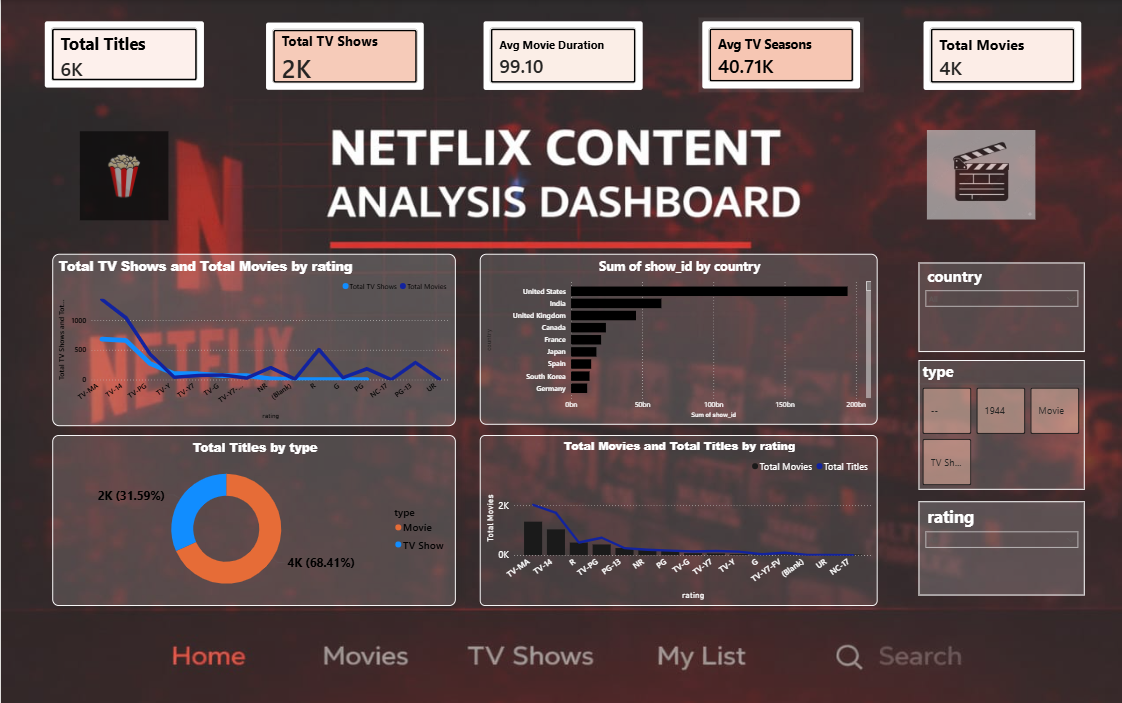

Layout of this report page (visuals, bound fields, positions):
{"tool":"powerbi","page":{"name":"Page 1","canvas":[1900,1190],"ordinal":0},"visuals":[{"type":"cardVisual","fields":{"Data":["netflix_titles.Total Movies"]},"box":[1552.1,28.5,279.1,128.3],"z":0},{"type":"cardVisual","fields":{"Data":["netflix_titles.Total Titles"]},"box":[67.2,30.6,281.1,124.2],"z":1000},{"type":"cardVisual","fields":{"Data":["netflix_titles.Total TV Shows"]},"box":[442,32.6,279.1,126.3],"z":2000},{"type":"cardVisual","fields":{"Data":["netflix_titles.Avg Movie Duration"]},"box":[808.6,30.6,281.1,128.3],"z":3000},{"type":"cardVisual","fields":{"Data":["netflix_titles.Avg TV Seasons"]},"box":[1177.3,30.6,279.1,126.3],"z":4000},{"type":"donutChart","fields":{"Category":["netflix_titles.type"],"Y":["netflix_titles.Total Titles"]},"box":[85.7,733.8,681.9,289.1],"z":5000},{"type":"lineChart","fields":{"Category":["netflix_titles.rating"],"Y":["netflix_titles.Total TV Shows","netflix_titles.Total Movies"]},"box":[85.7,428.7,681.9,291.1],"z":6000},{"type":"clusteredBarChart","fields":{"Category":["netflix_titles_countries.country"],"Y":["Sum(netflix_titles_countries.show_id)"]},"box":[809.6,428.7,672,289.1],"z":7000},{"type":"lineStackedColumnComboChart","fields":{"Category":["netflix_titles.rating"],"Y":["netflix_titles.Total Movies"],"Y2":["netflix_titles.Total Titles"]},"box":[809.6,733.8,672,289.1],"z":8000},{"type":"slicer","fields":{"Values":["netflix_titles_countries.country"]},"box":[1549.3,442.7,281.2,151.5],"z":9000},{"type":"slicer","fields":{"Values":["netflix_titles.rating"]},"box":[1549.3,847.4,281.2,159.5],"z":10000},{"type":"advancedSlicerVisual","fields":{"Values":["netflix_titles.type"]},"box":[1549.3,608.2,281.2,219.3],"z":11000},{"type":"image","box":[67,222,281,150],"z":12000},{"type":"image","box":[1515.4,219.3,279.2,151.5],"z":13000}]}

Visuals, with their boxes in screenshot pixels (x1, y1, x2, y2), scaled from the page's 1900x1190 canvas onto the 1122x703 screenshot:
cardVisual - netflix_titles.Total Movies: 917,17,1081,93
cardVisual - netflix_titles.Total Titles: 40,18,206,91
cardVisual - netflix_titles.Total TV Shows: 261,19,426,94
cardVisual - netflix_titles.Avg Movie Duration: 477,18,643,94
cardVisual - netflix_titles.Avg TV Seasons: 695,18,860,93
donutChart - netflix_titles.type x netflix_titles.Total Titles: 51,433,453,604
lineChart - netflix_titles.rating x netflix_titles.Total TV Shows: 51,253,453,425
clusteredBarChart - netflix_titles_countries.country x Sum(netflix_titles_countries.show_id): 478,253,875,424
lineStackedColumnComboChart - netflix_titles.rating x netflix_titles.Total Movies: 478,433,875,604
slicer - netflix_titles_countries.country: 915,262,1081,351
slicer - netflix_titles.rating: 915,501,1081,595
advancedSlicerVisual - netflix_titles.type: 915,359,1081,489
image: 40,131,206,220
image: 895,130,1060,219
